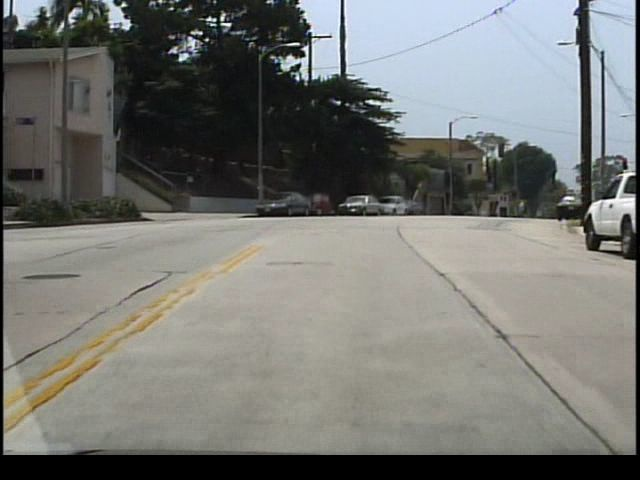person: (519, 199, 527, 220)
